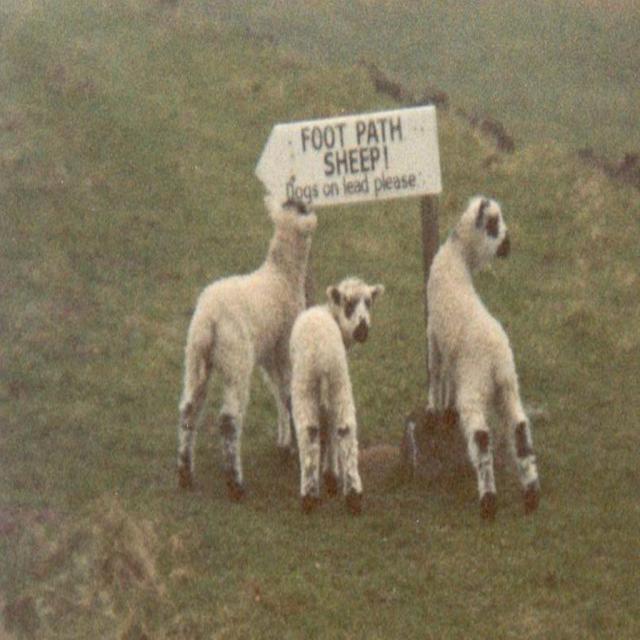alpaca: (171, 194, 317, 498), (424, 195, 544, 520), (288, 277, 386, 514)
